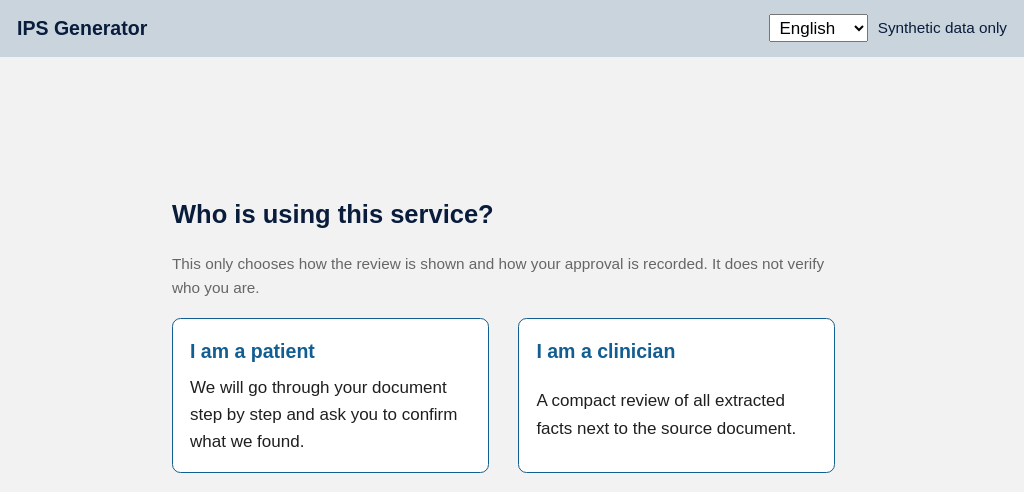
App › switches the interface language and sets the document language
Select "Suomi" in the dropdown named "Interface language": (818, 28) x1=769 y1=14 x2=868 y2=42
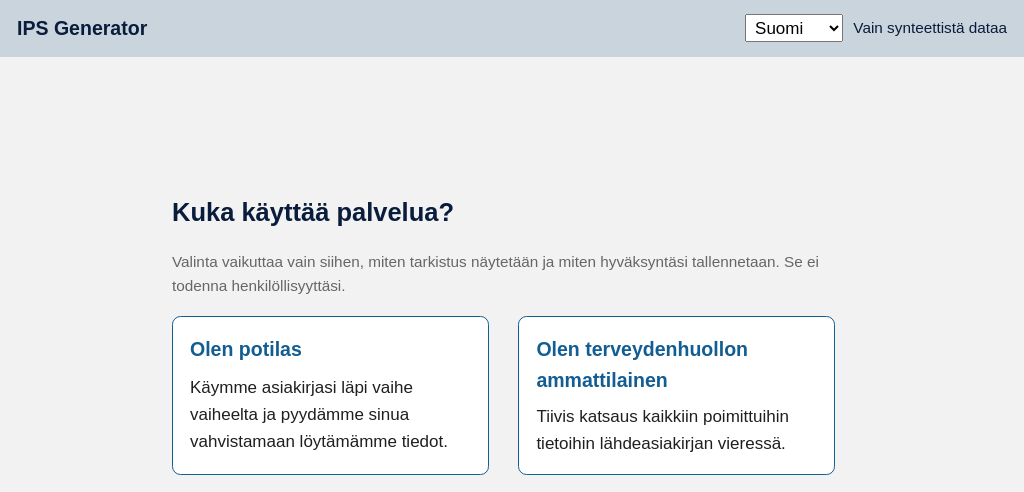
Expected: the heading "Kuka käyttää palvelua?" is shown, x1=172 y1=198 x2=454 y2=226
Select "Svenska" in the dropdown named "Käyttöliittymän kieli": (794, 28) x1=745 y1=14 x2=843 y2=42
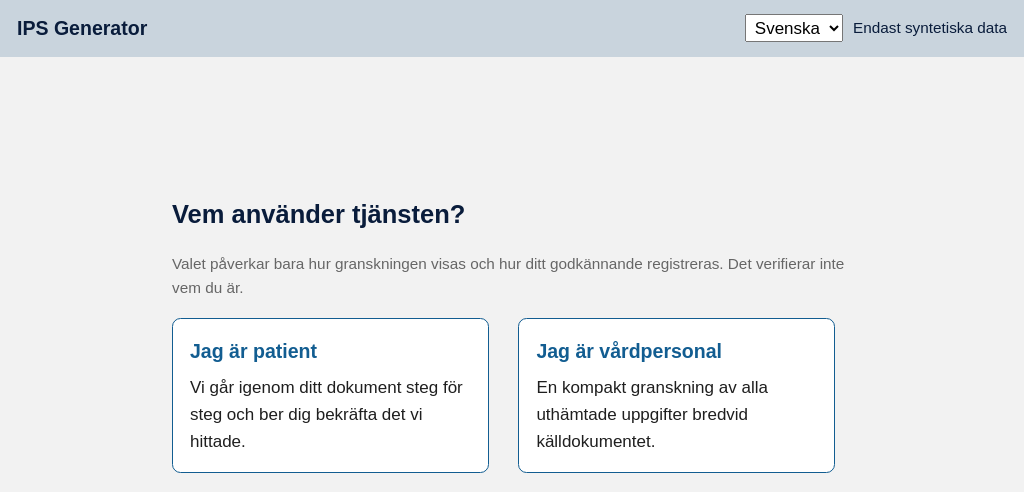
Expected: the heading "Vem använder tjänsten?" is shown, x1=172 y1=200 x2=465 y2=228
